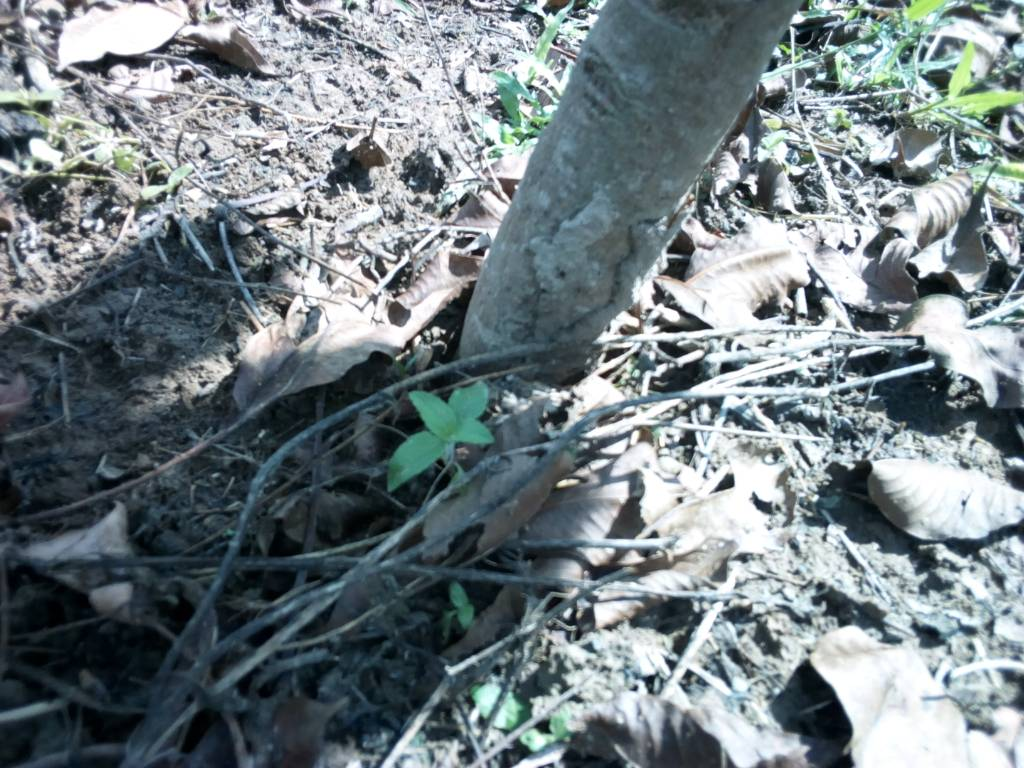Termites: (540, 189, 644, 341)
